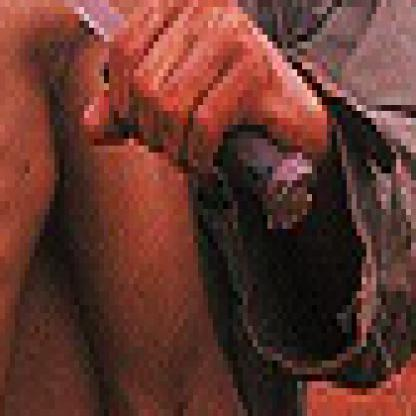knife: (0, 0, 188, 132)
